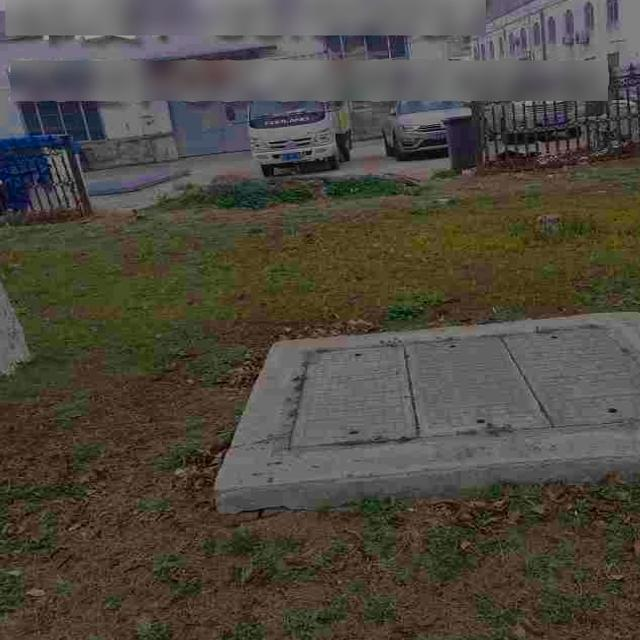good: (271, 321, 640, 455)
